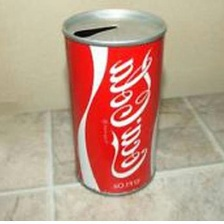can: (57, 2, 170, 200)
